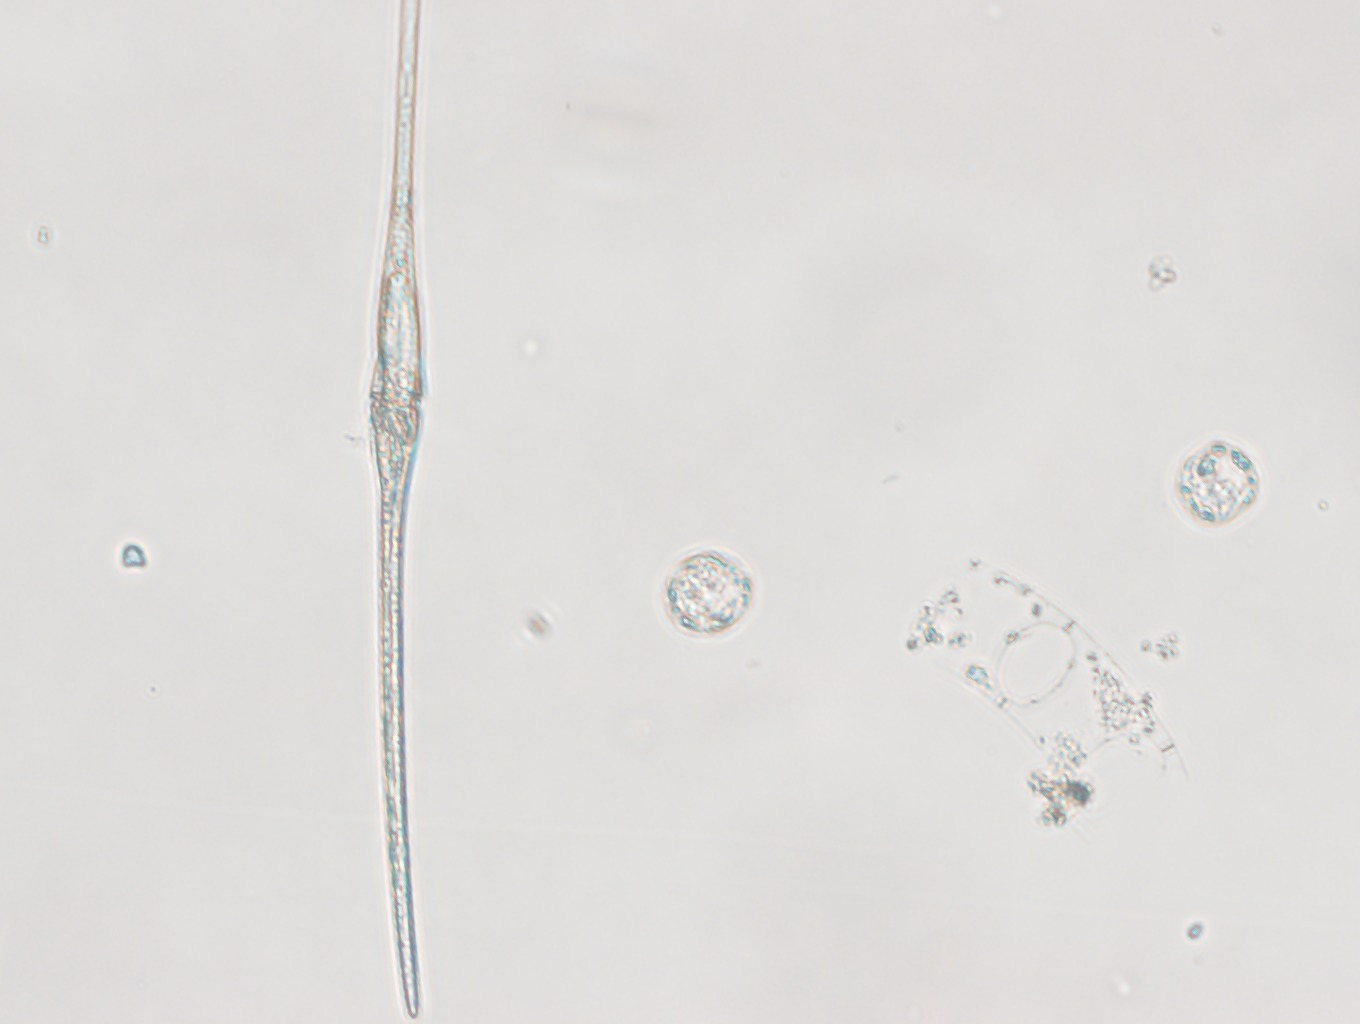ceratium fusus: (368, 1, 424, 1019)
eucampia: (924, 564, 1187, 777)
